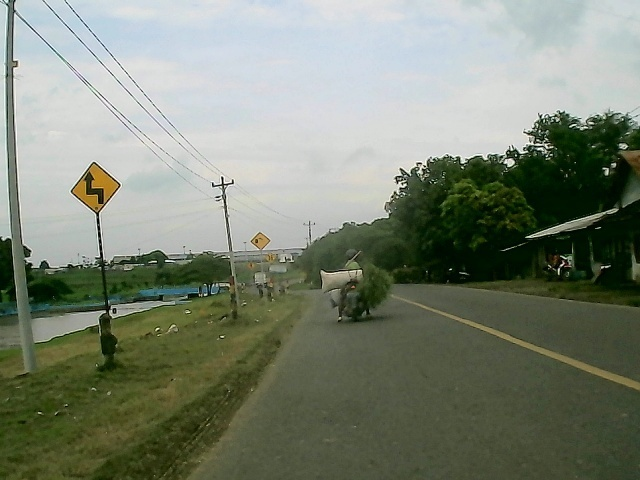Tikungan garda pertama kiri: (71, 162, 119, 214)
